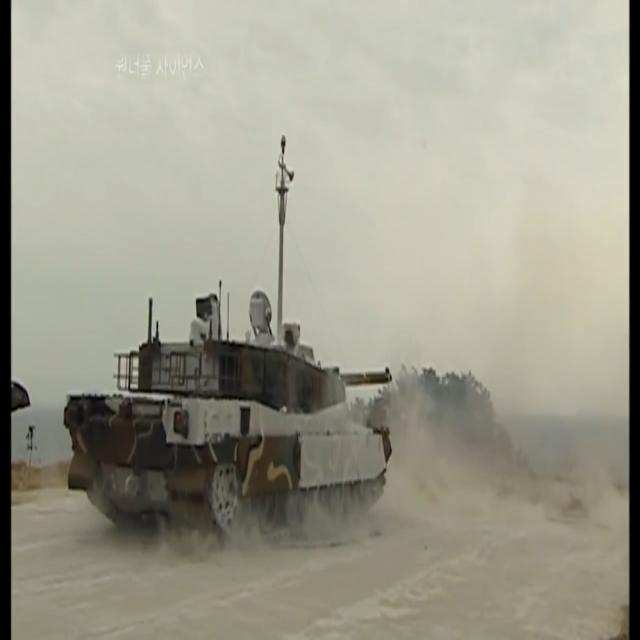korea tank: (63, 287, 393, 554)
